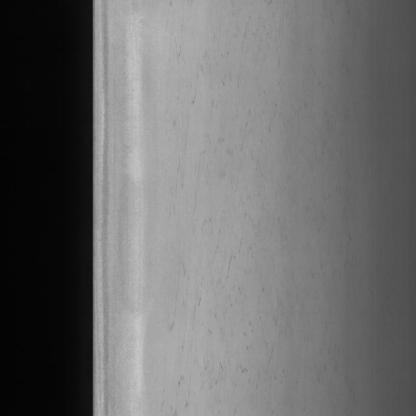silk_spot: (166, 19, 287, 414)
